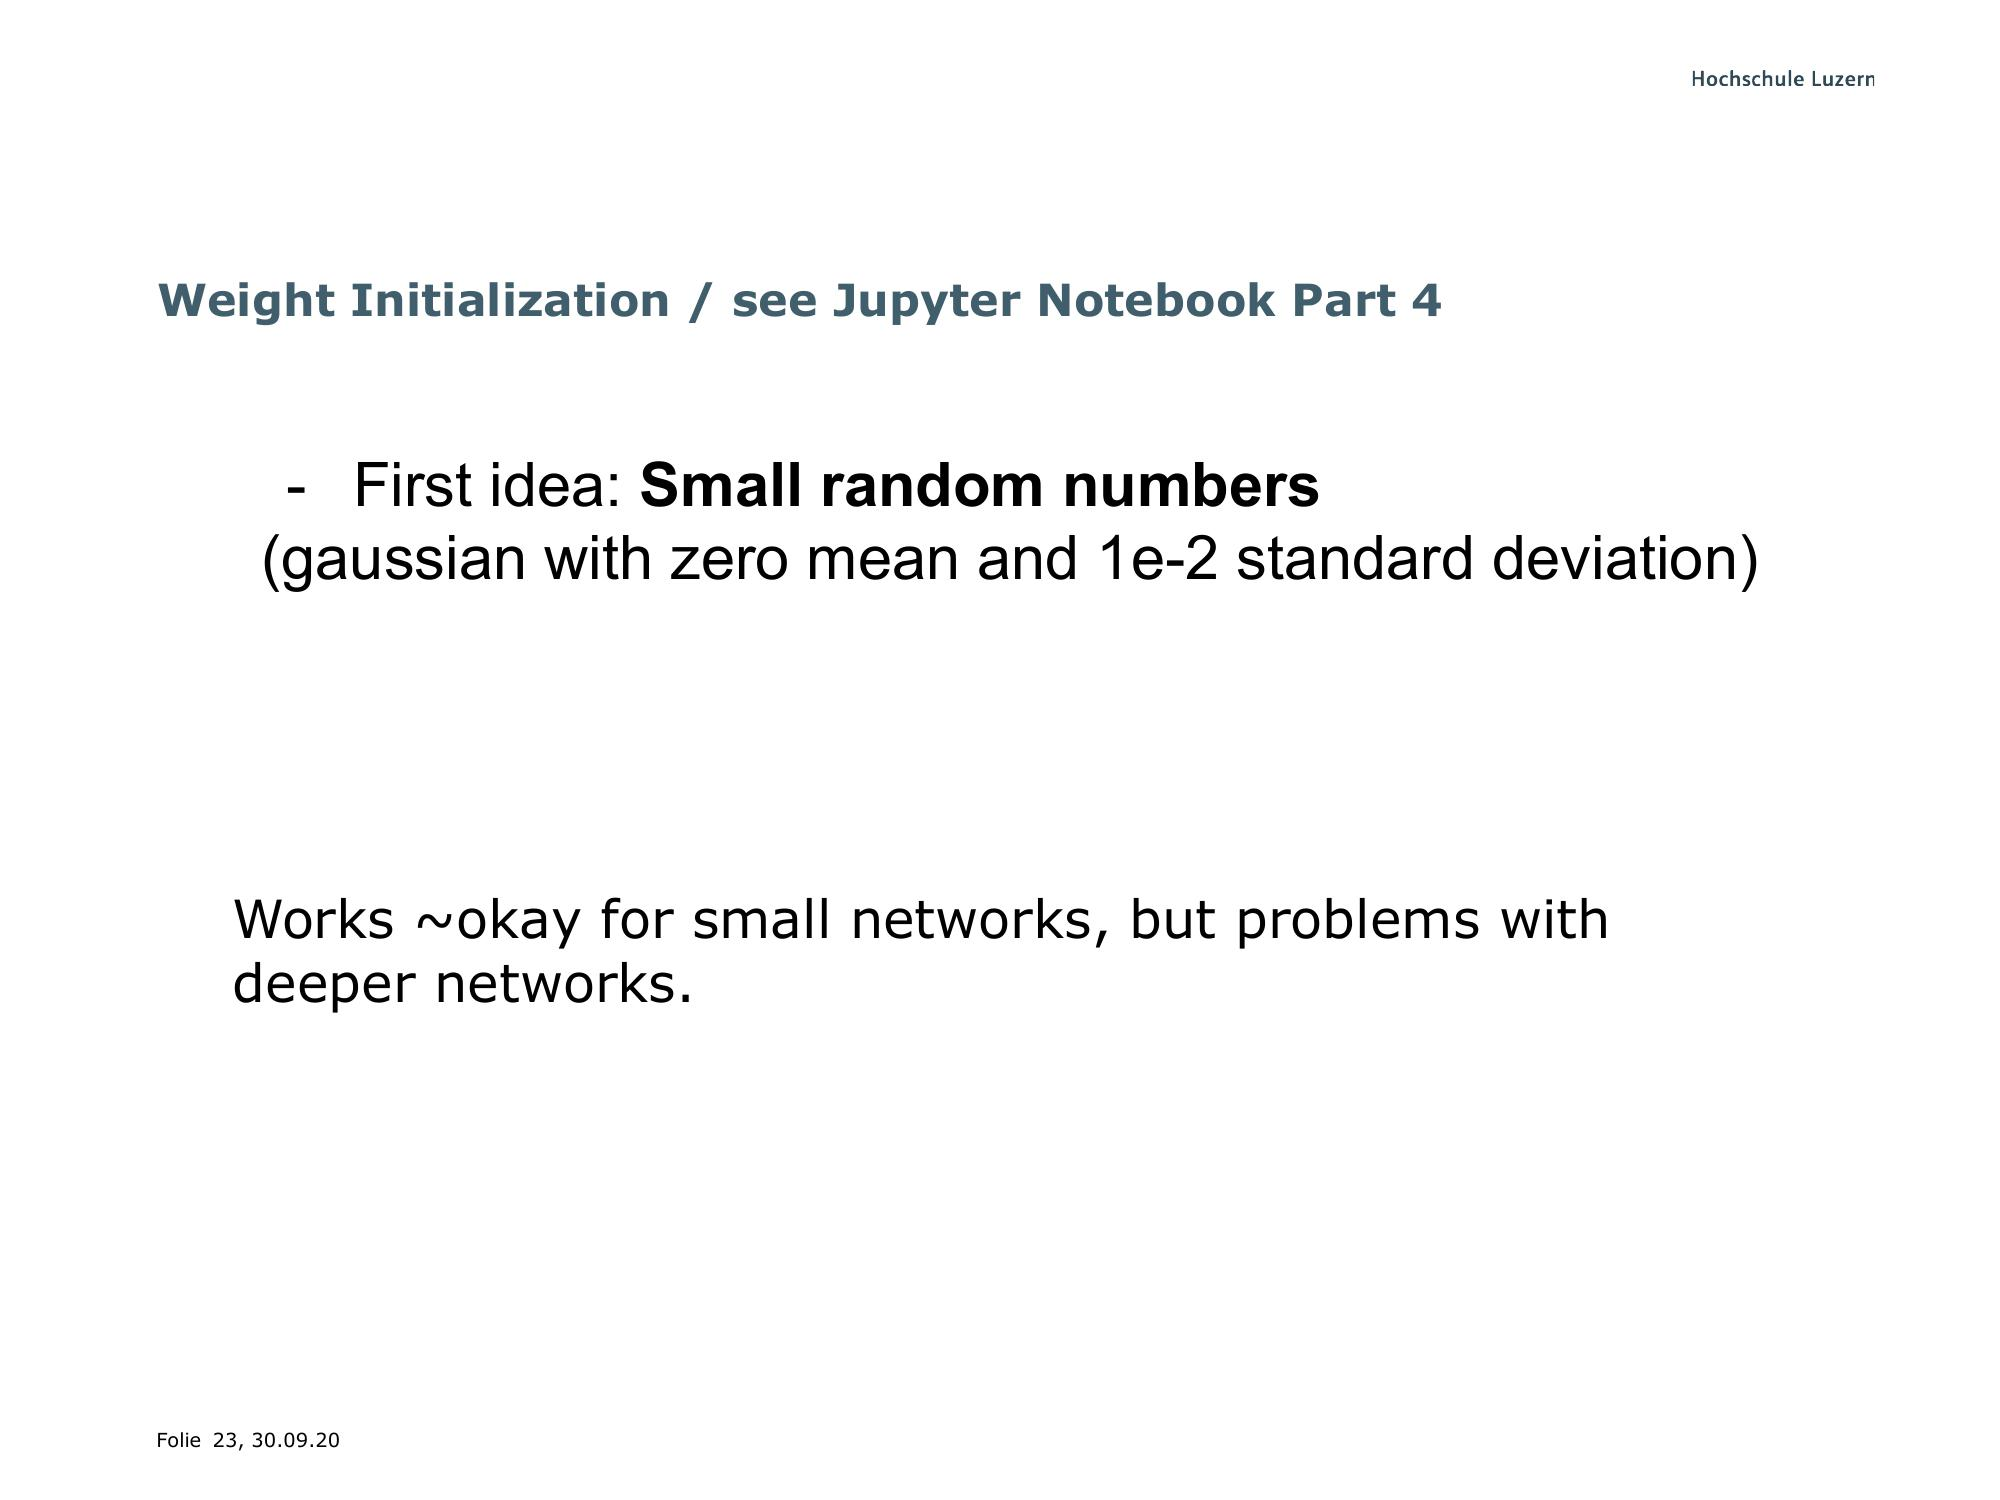Title: (150, 258, 1455, 350)
